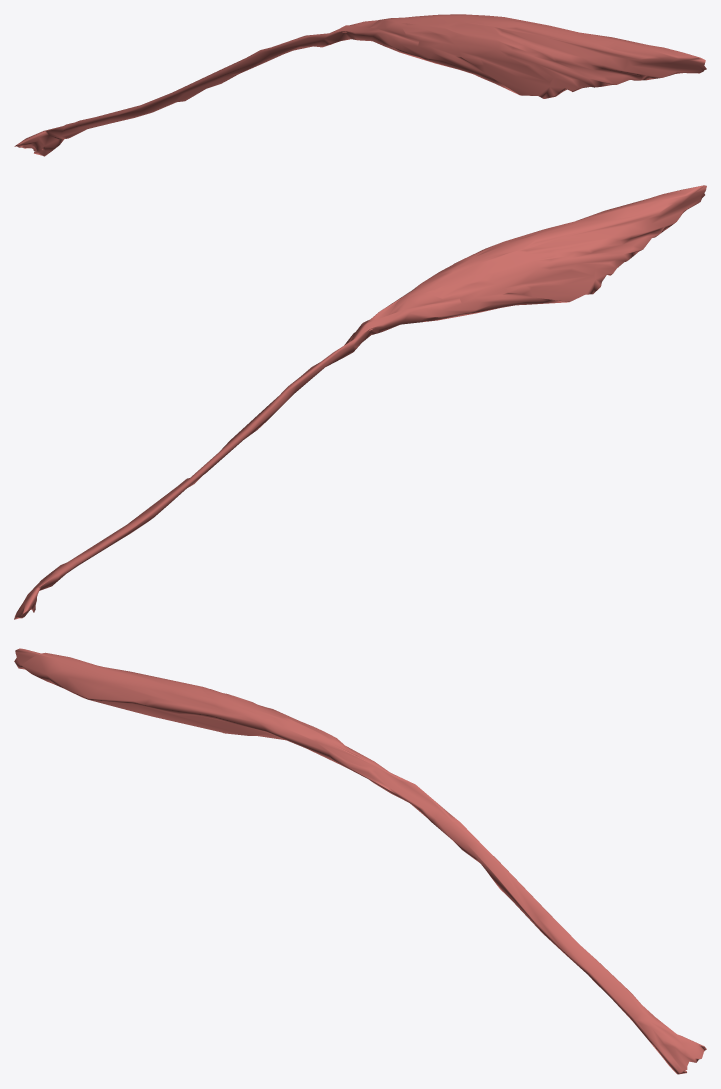
The picture shows the model from 3 angles, top to bottom: view 1: azimuth 90°, elevation 25°; view 2: azimuth 150°, elevation 25°; view 3: azimuth 270°, elevation 25°; orthographic projection. The views are drawn at different scales.
Visible parts, largest first — view 1: 左侧拇短伸肌; view 2: 左侧拇短伸肌; view 3: 左侧拇短伸肌.
Boxes of the visible parts, bbox=[...] form: 左侧拇短伸肌: bbox=[14, 14, 706, 156]; 左侧拇短伸肌: bbox=[14, 185, 706, 619]; 左侧拇短伸肌: bbox=[14, 648, 706, 1074].
Size of the model in its own units: 0.1164 by 0.0864 by 0.2067.
